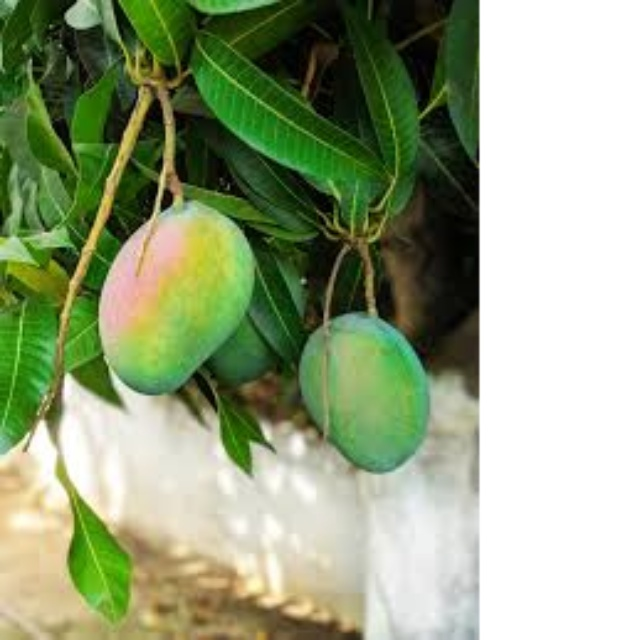thanh_long: (81, 194, 273, 403), (299, 297, 446, 485)
